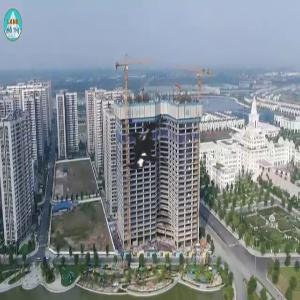drone: (56, 66, 232, 242)
